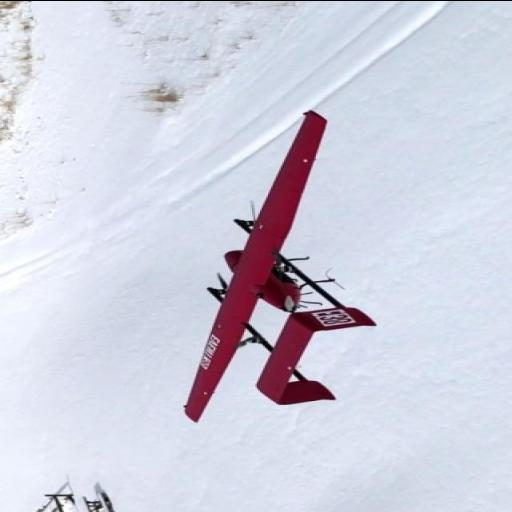uav: (179, 97, 402, 424)
